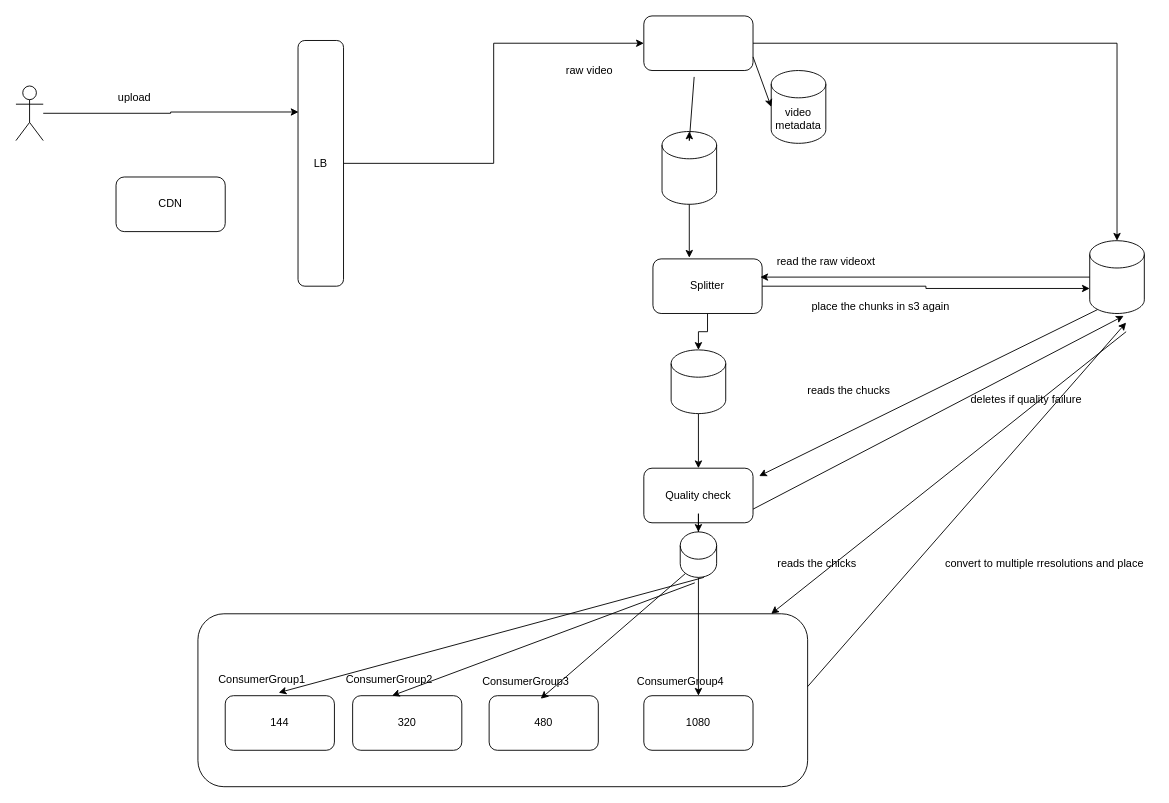
This 1169x803 diagram has some shape labels left out. The shapes that lost their labels are listed below. From the top down, each one's centre as x and y in pixels, then its label:
At (698,43): "upload service".
At (29,113): "Actor".
At (1116,276): "S3 bucket".
